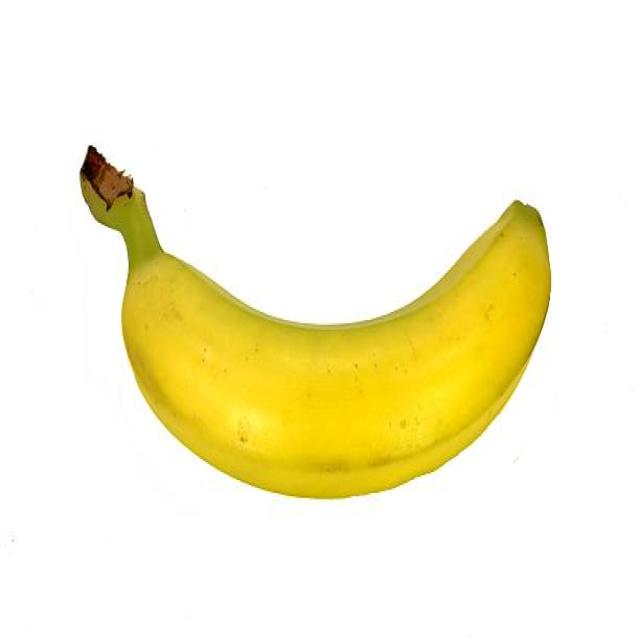banana: (78, 145, 553, 501)
